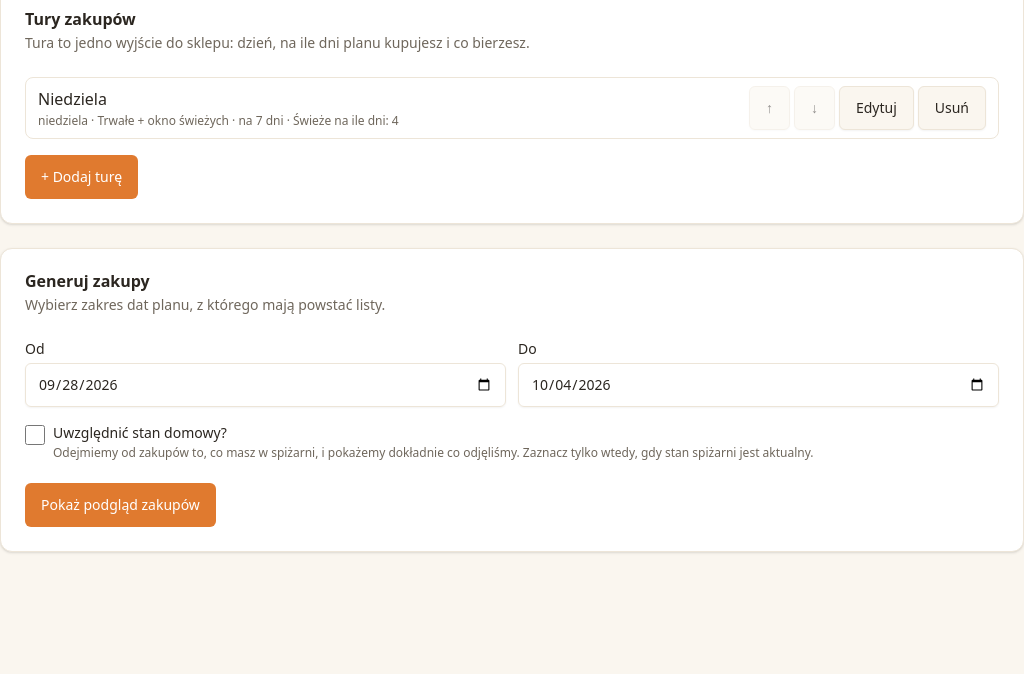
Test: ZakupyPage › toggle „mam już w domu" wysyła PEŁNY zbiór zaznaczeń
Click the button with test id "zakupy-generate".
click(120, 505)  # box x1=25 y1=483 x2=216 y2=527
(page scrolled)
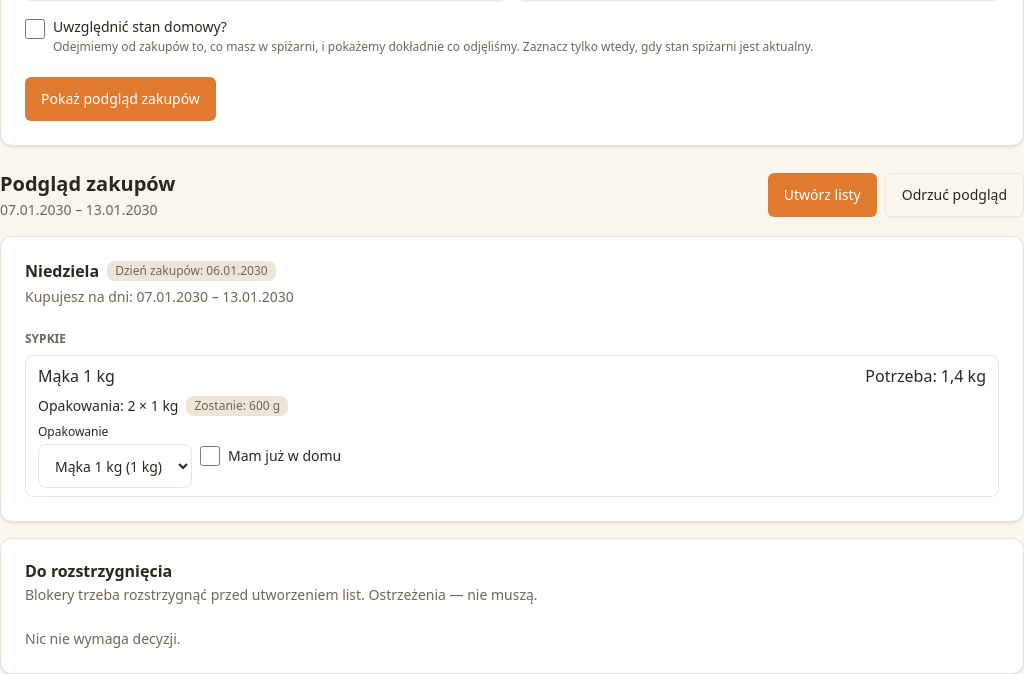
Click the checkbox with test id "preview-toggle-have-10".
click(210, 456)  # box x1=200 y1=446 x2=220 y2=466
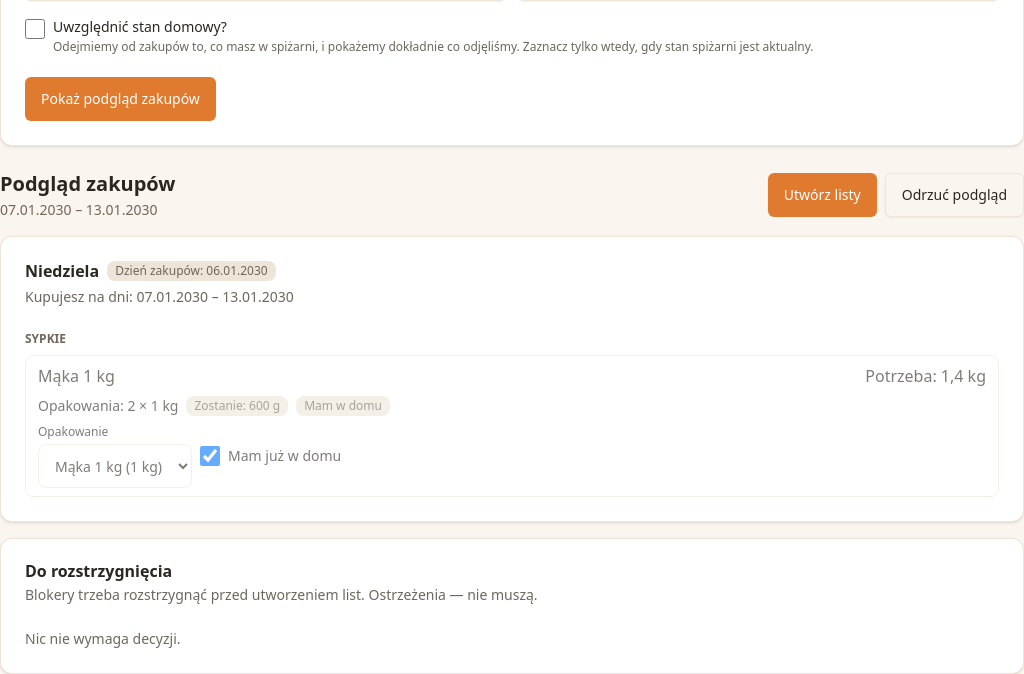
Expected: the text with test id "preview-already-have-10" reads "Mam w domu", x1=304 y1=397 x2=382 y2=414
